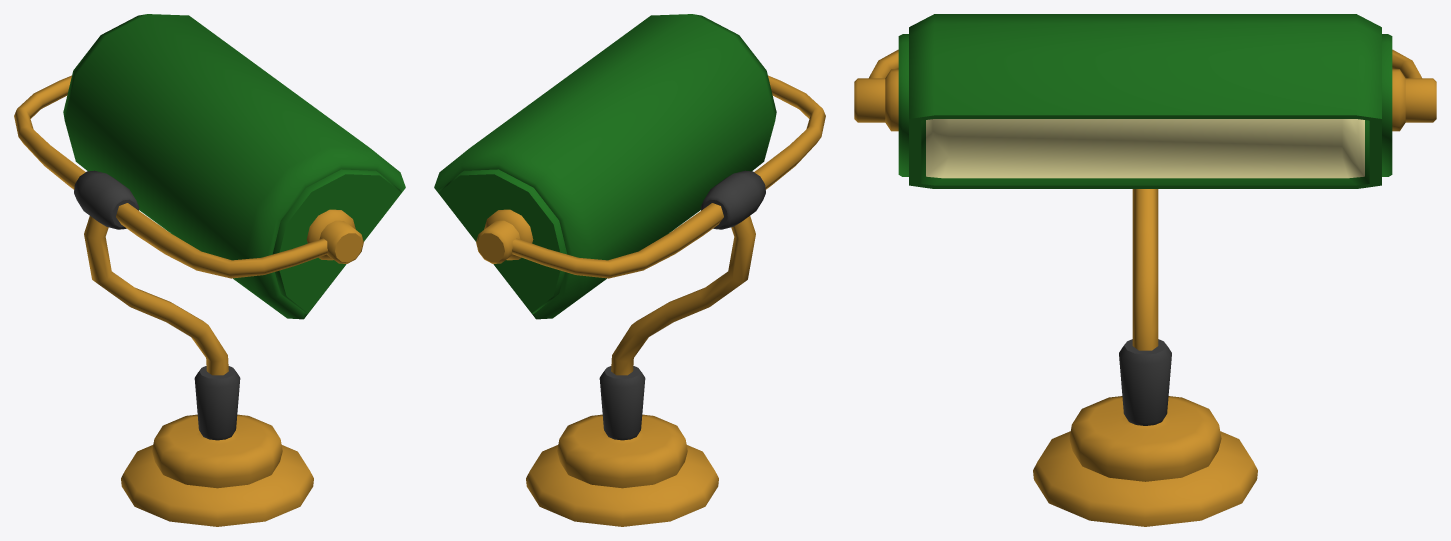
Rendered from Bank Desk Lamp_V1.fbx.
3 renders of one model, left to right at view 1: azimuth 30°, elevation 25°; view 2: azimuth 150°, elevation 25°; view 3: azimuth 270°, elevation 25°, orthographic. The views are drawn at different scales.
Visible parts, largest first — view 1: Bank Desk Lamp; view 2: Bank Desk Lamp; view 3: Bank Desk Lamp.
Part boxes in pixels (bbox=[...]): Bank Desk Lamp: bbox=[14, 14, 405, 526]; Bank Desk Lamp: bbox=[434, 14, 825, 526]; Bank Desk Lamp: bbox=[854, 14, 1436, 526].
Size of the model in its own units: 17.49 by 30.02 by 33.88.
